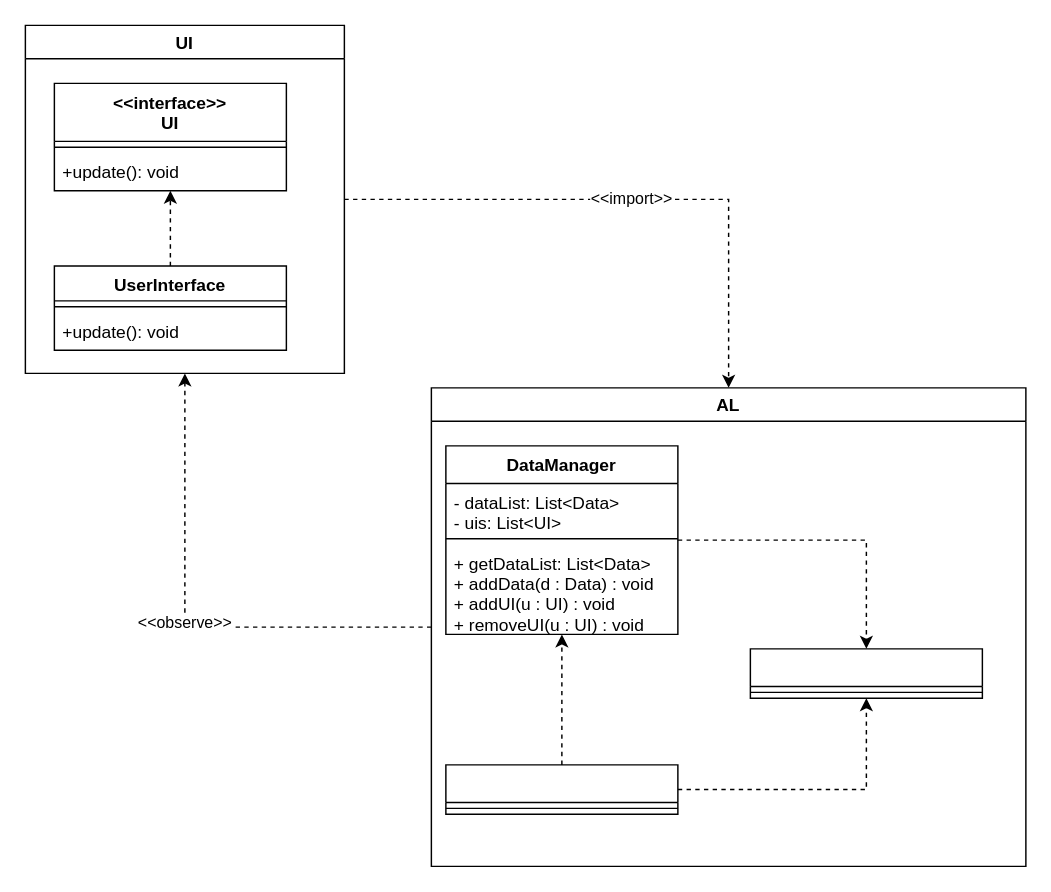
Some shapes in this 1051 by 892 pixel diagram are drawn without their labels. The centre of each missing label's shape, as x and y in pixels:
"Data" belongs at [865,672].
"Producer" belongs at [561,788].
